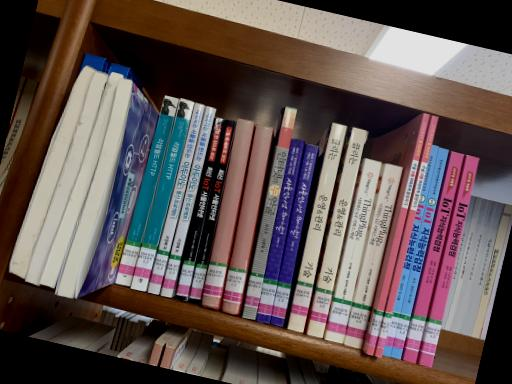book-spine: (373, 115, 438, 357), (366, 113, 430, 356), (404, 151, 464, 363), (287, 122, 347, 333), (307, 126, 366, 339), (419, 155, 478, 367), (390, 147, 448, 359), (130, 98, 193, 292), (115, 95, 178, 287), (382, 145, 438, 357), (242, 106, 297, 320), (147, 103, 205, 295), (344, 163, 403, 348), (160, 106, 216, 297), (325, 158, 381, 344), (201, 118, 253, 308), (221, 124, 272, 315), (174, 116, 225, 301), (188, 120, 236, 304), (256, 138, 303, 323), (270, 143, 317, 327)
